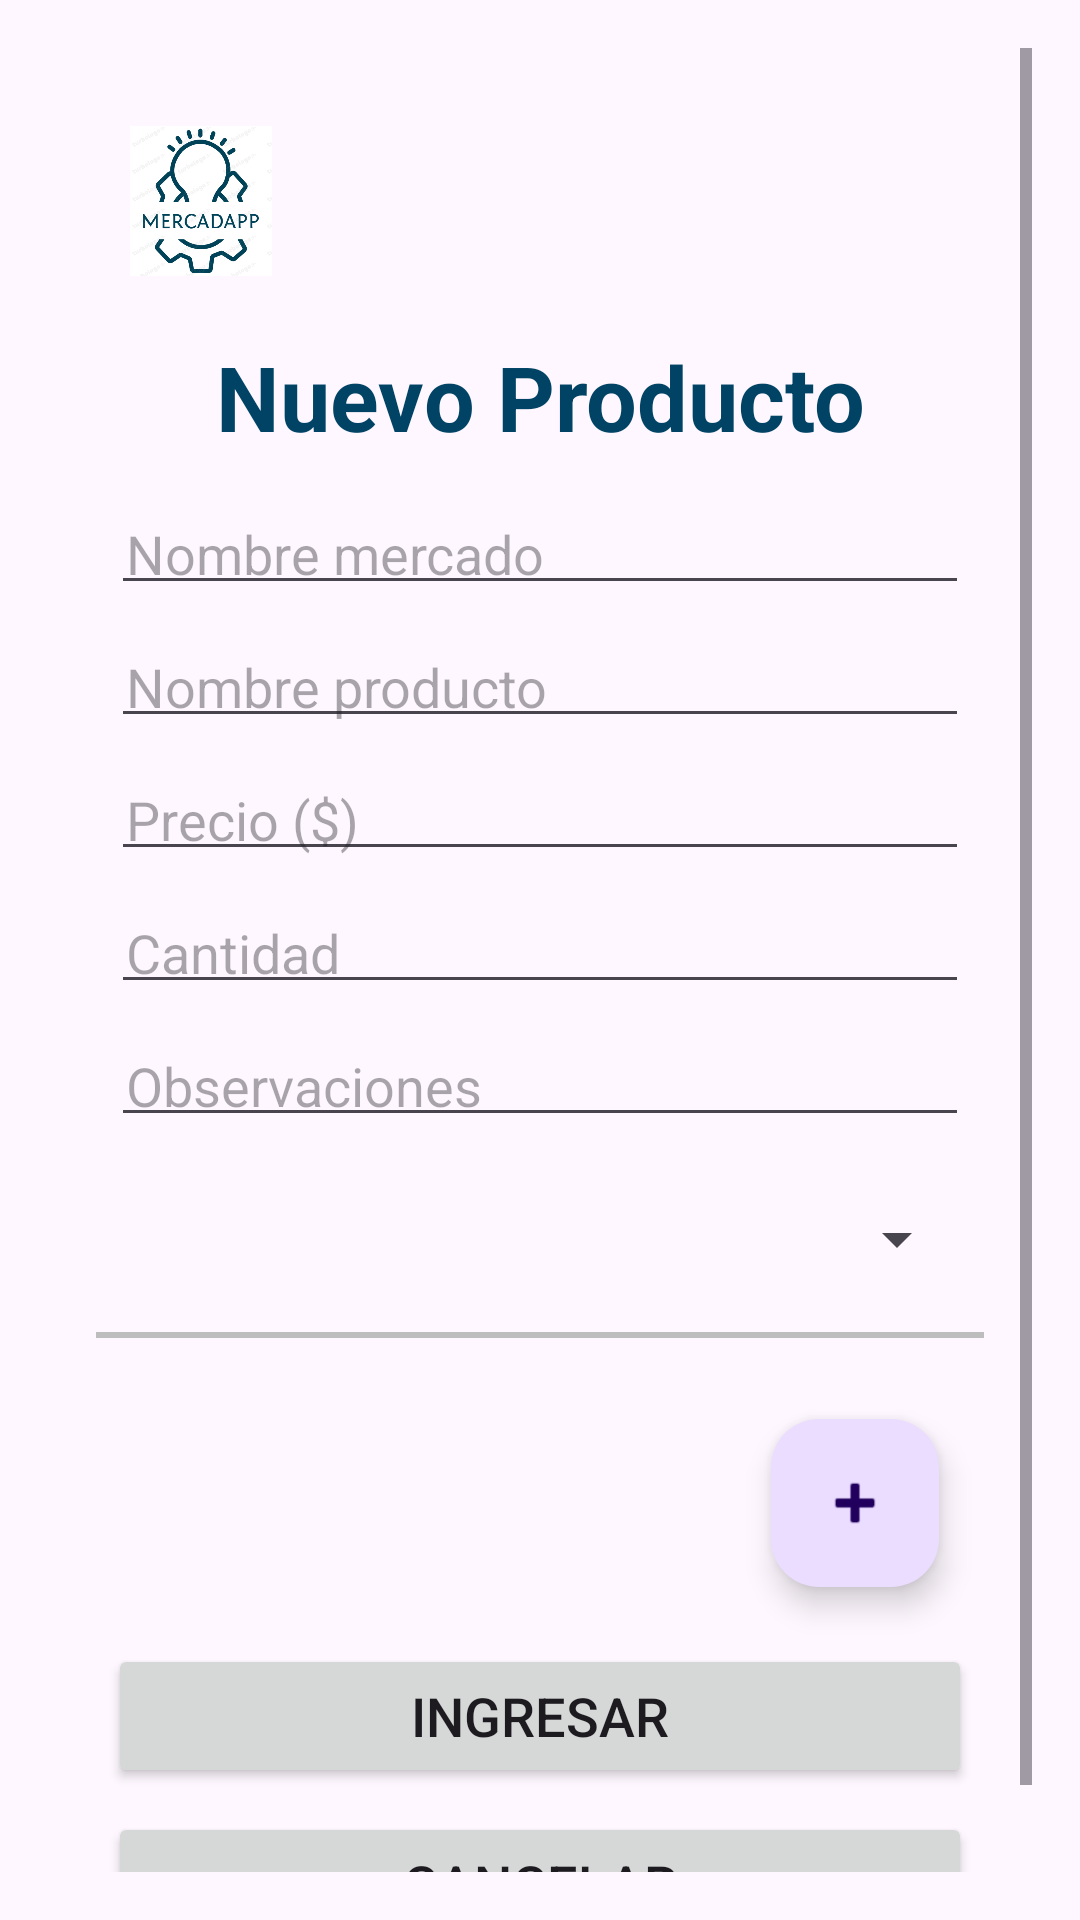

Named icons in this screenshot (1080x1920) and their centers, (x=x, y=y):
add: (x=855, y=1503)
